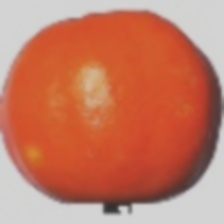tangerine: (51, 8, 190, 173)
